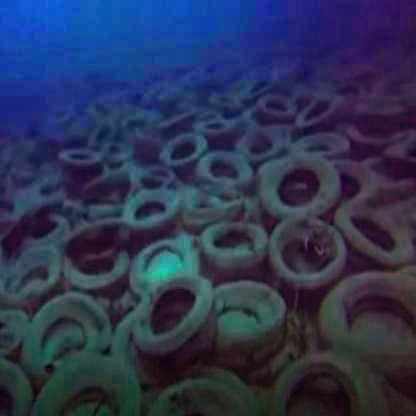tire: (265, 221, 351, 306), (258, 146, 340, 232), (59, 215, 140, 296), (140, 278, 215, 358), (199, 206, 272, 281), (160, 128, 217, 186)
